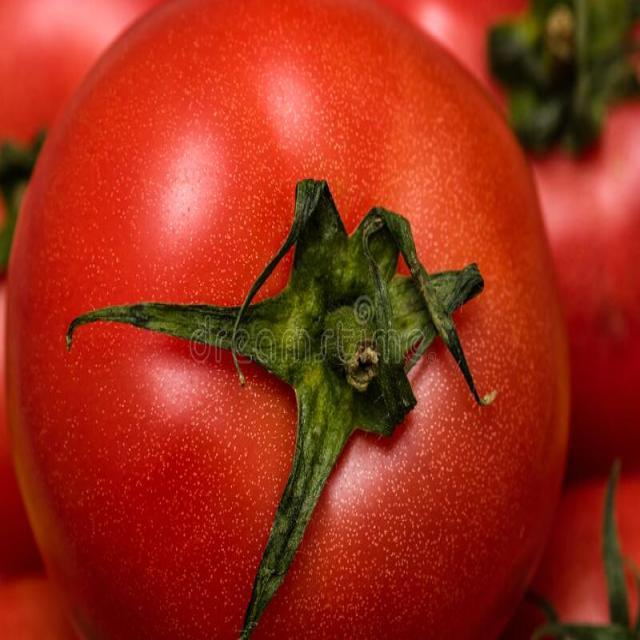kirmizi: (10, 2, 564, 632)
